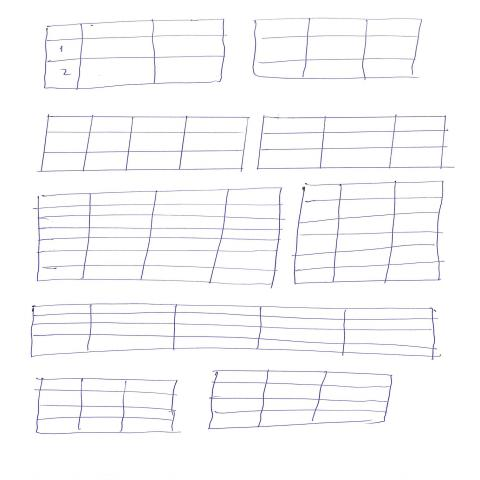Table: (31, 186, 285, 286), (29, 303, 438, 356), (294, 182, 447, 288), (41, 18, 227, 92), (38, 113, 253, 176), (256, 115, 449, 176), (206, 370, 397, 431), (253, 17, 423, 81), (34, 378, 178, 437)
